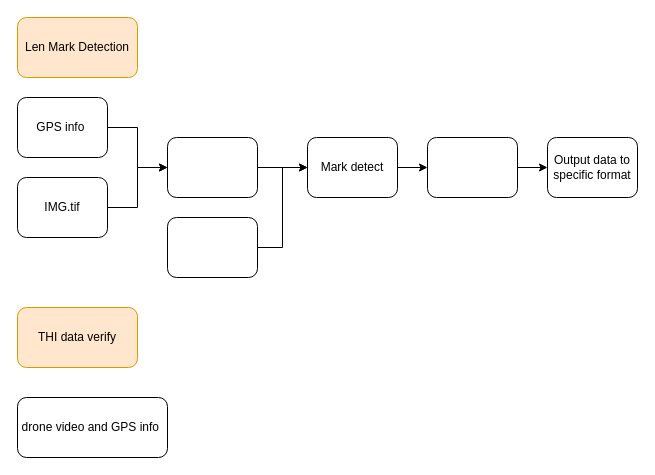
Image size: 655x475. Some labels were removed from this diagram. Here are the shapes that lost their labels. From the top down, the centre of each, then its label:
At (212,167): "Len detection".
At (472,167): "Set world wide position".
At (212,247): "Len mark colorfilter code(yellow, white)".
